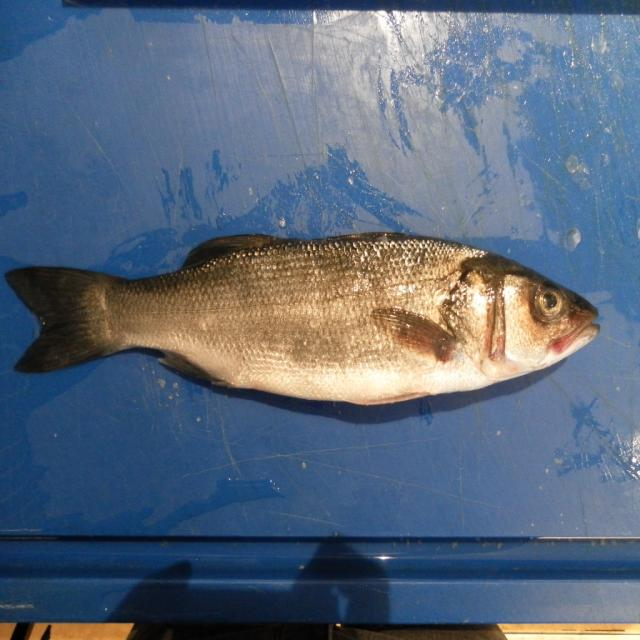Sea-Bass-levrek-: (6, 232, 601, 408)
